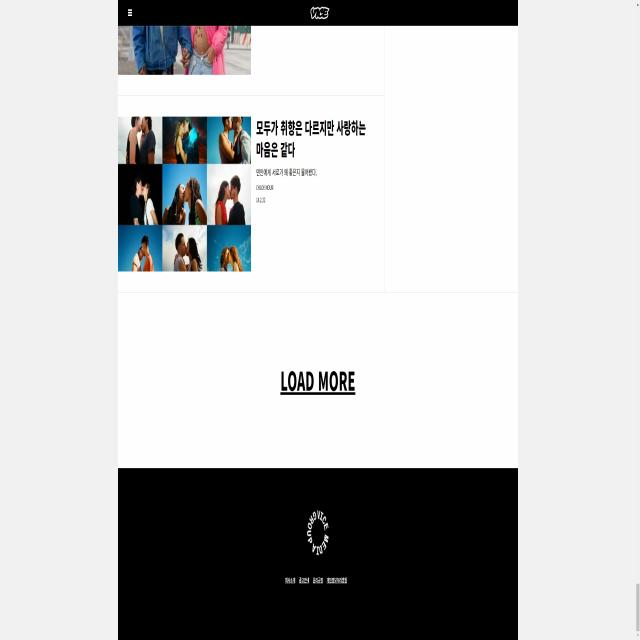tab-bar: (122, 4, 139, 20)
